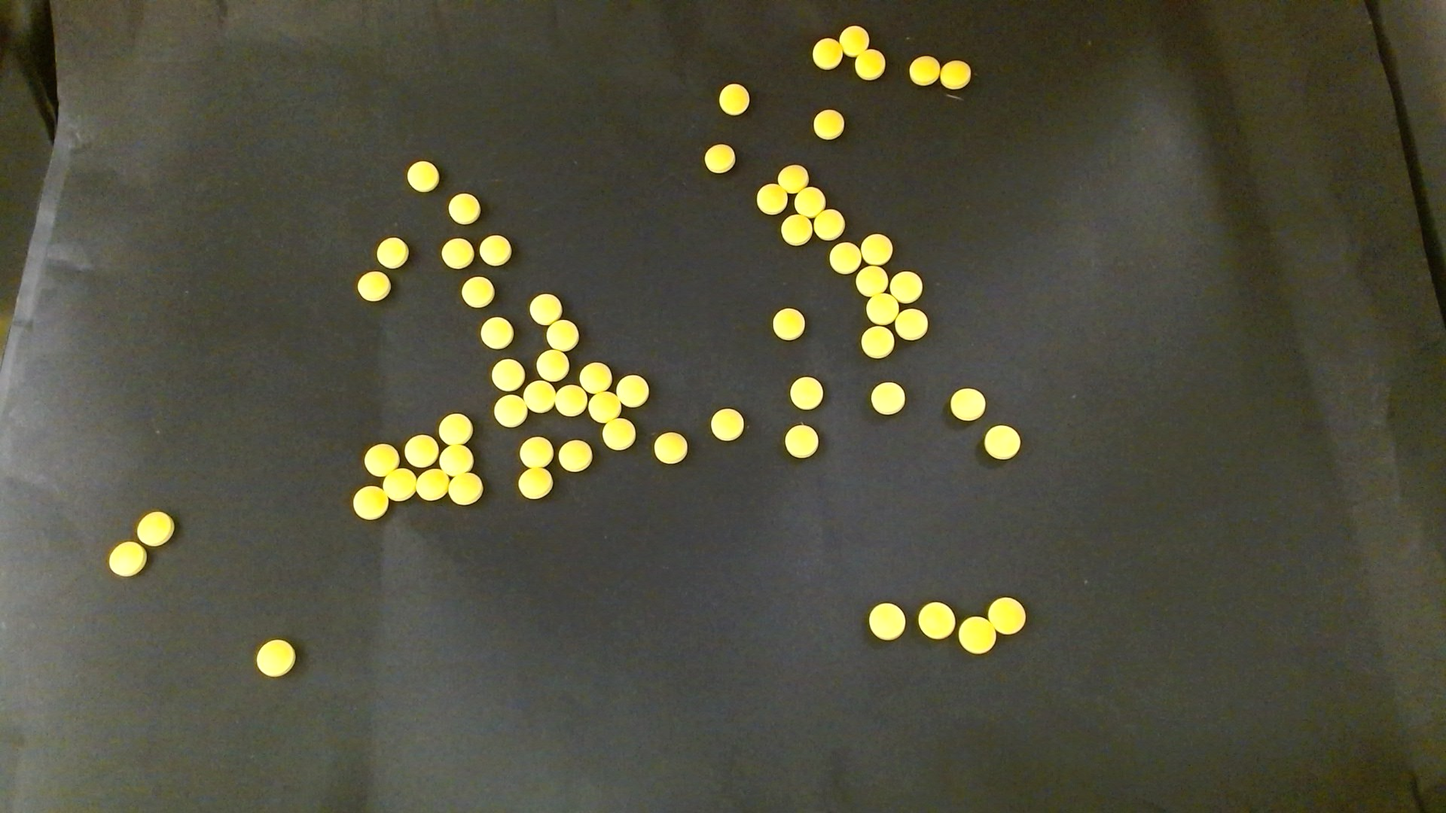Circle: (255, 639, 295, 678), (868, 601, 906, 640), (136, 510, 175, 547), (108, 541, 147, 578), (982, 425, 1021, 461), (918, 601, 954, 639), (989, 597, 1025, 634), (958, 617, 994, 653), (869, 381, 906, 416), (950, 387, 986, 422), (352, 486, 389, 520), (355, 269, 391, 303), (364, 443, 398, 477), (710, 408, 745, 441), (789, 376, 822, 410), (653, 431, 687, 464), (784, 425, 818, 458), (448, 472, 482, 505), (493, 394, 526, 428), (404, 434, 438, 467), (517, 467, 552, 499), (440, 443, 473, 476), (491, 358, 524, 391), (602, 418, 636, 450), (406, 160, 439, 192), (773, 307, 805, 340), (480, 317, 513, 349), (520, 436, 553, 468), (616, 374, 648, 407), (439, 413, 472, 445), (718, 83, 750, 115), (462, 276, 494, 308), (536, 349, 568, 381), (580, 362, 612, 394), (383, 469, 415, 501), (558, 440, 591, 471), (861, 327, 893, 358), (441, 238, 473, 269), (529, 293, 561, 324), (895, 309, 927, 340), (890, 271, 922, 302), (416, 469, 447, 501), (523, 380, 554, 412), (448, 193, 479, 224), (480, 235, 511, 266), (377, 237, 408, 268), (861, 233, 892, 264), (555, 384, 586, 415), (866, 294, 898, 324), (813, 108, 843, 139), (781, 214, 811, 245), (829, 242, 859, 273), (756, 182, 786, 213), (795, 186, 825, 217), (547, 320, 578, 350), (857, 264, 887, 295), (589, 392, 620, 422), (703, 144, 735, 173), (941, 59, 971, 89), (777, 163, 807, 193), (839, 25, 868, 56), (909, 55, 938, 85), (855, 49, 884, 79), (814, 210, 843, 240), (812, 38, 840, 69)
